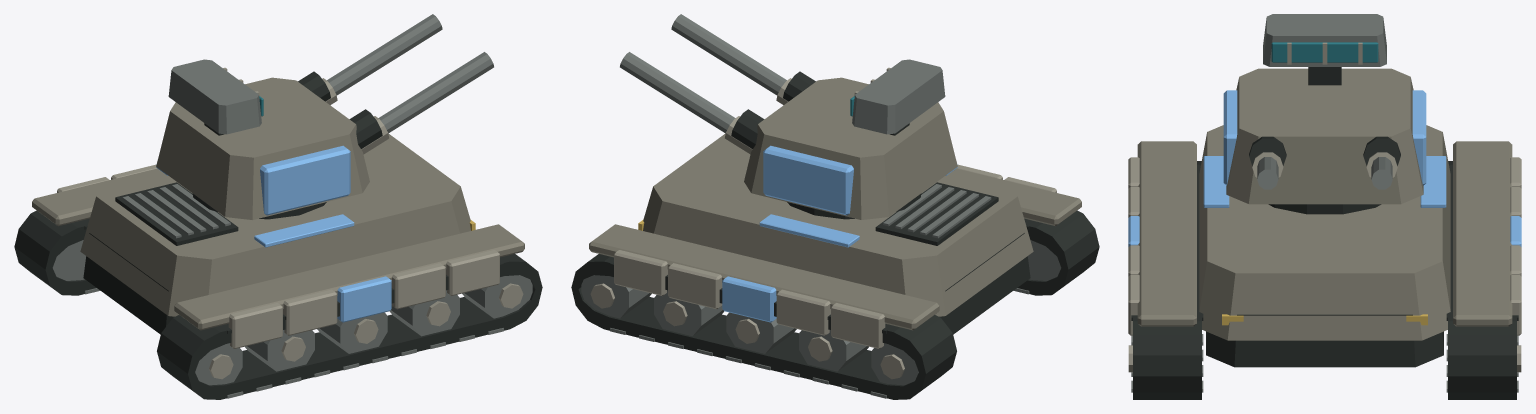
File: hailstorm.glb
3 renders of one model, left to right at view 1: azimuth 30°, elevation 25°; view 2: azimuth 150°, elevation 25°; view 3: azimuth 270°, elevation 25°, orthographic. The views are drawn at different scales.
Visible parts, largest first — view 1: Hull, Turret; view 2: Hull, Turret; view 3: Hull, Turret.
Part boxes in pixels (bbox=[...]): Hull: bbox=[14, 133, 542, 399]; Turret: bbox=[156, 14, 493, 219]; Hull: bbox=[571, 133, 1099, 399]; Turret: bbox=[620, 14, 957, 219]; Hull: bbox=[1128, 125, 1521, 399]; Turret: bbox=[1223, 14, 1426, 214].
Size of the model in its own units: 2.36 by 1.45 by 2.
